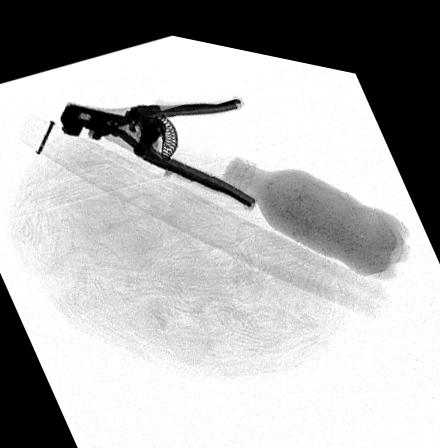Pliers: (58, 86, 256, 200)
